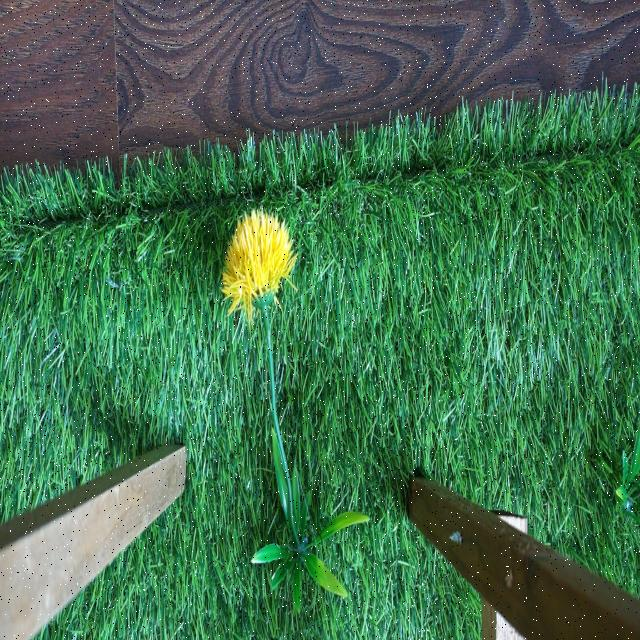base: (256, 430, 370, 604)
flower: (226, 211, 294, 313)
